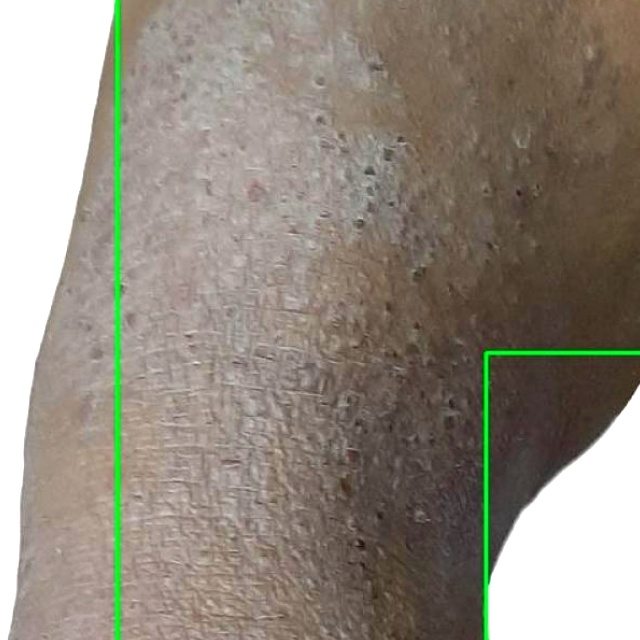Contact Dermatitis: (0, 0, 117, 639), (485, 354, 639, 639)
